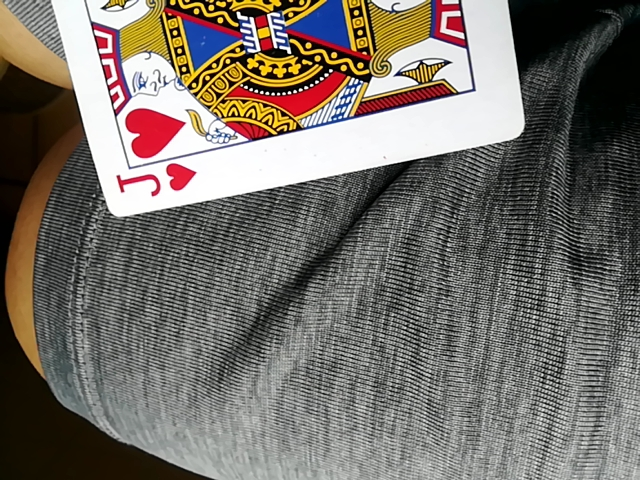hx j: (39, 1, 534, 216)
